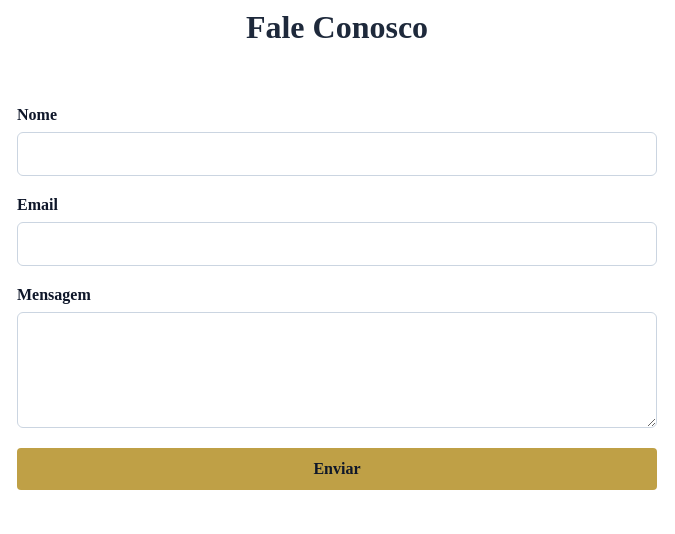
Test case: FormContato › mostra erro quando a mensagem tem menos de 10 caracteres
Type "Ana Souza" into the field labelled "Nome" at (337, 154), box top-left (17, 132), bottom-right (657, 176)
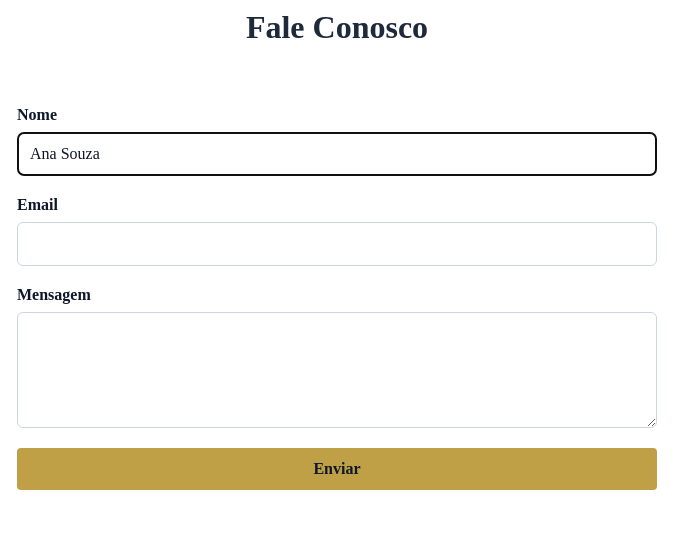
Type "ana@email.com" into the field labelled "Email" at (337, 244), box top-left (17, 222), bottom-right (657, 266)
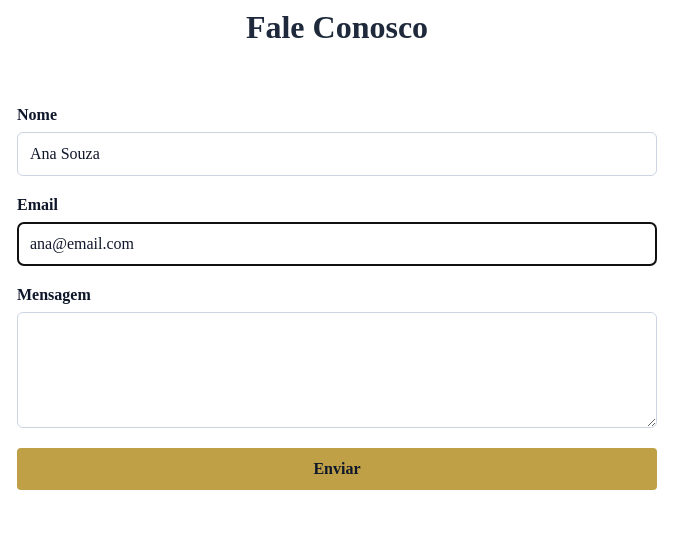
Type "Ajuda" into the text box labelled "Mensagem" at (337, 370), box top-left (17, 312), bottom-right (657, 428)
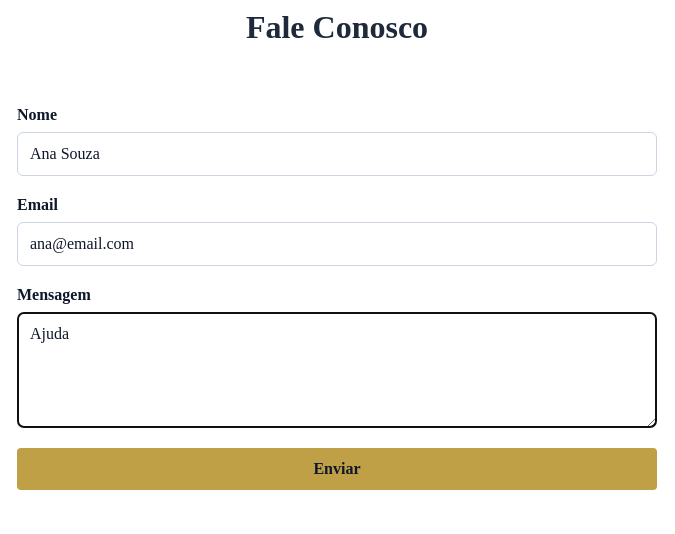
Click the button "Enviar" at (337, 469), box top-left (17, 448), bottom-right (657, 490)
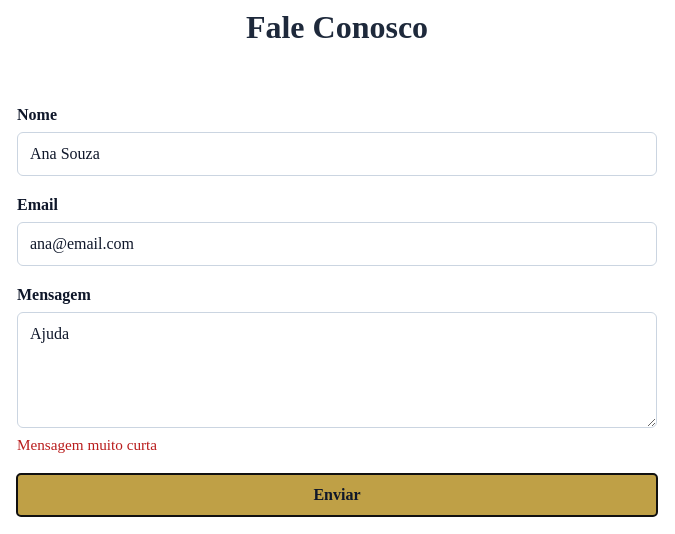
Now the text "Mensagem muito curta" is shown, box top-left (17, 436), bottom-right (157, 453)
